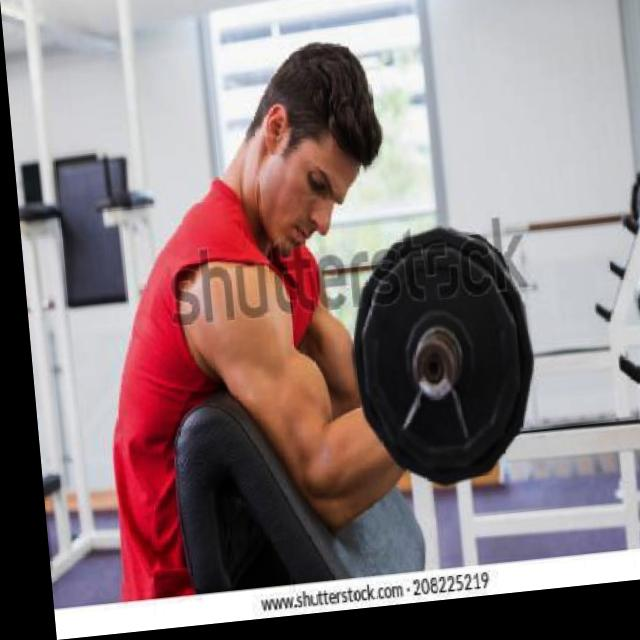barbell: (337, 227, 542, 504)
